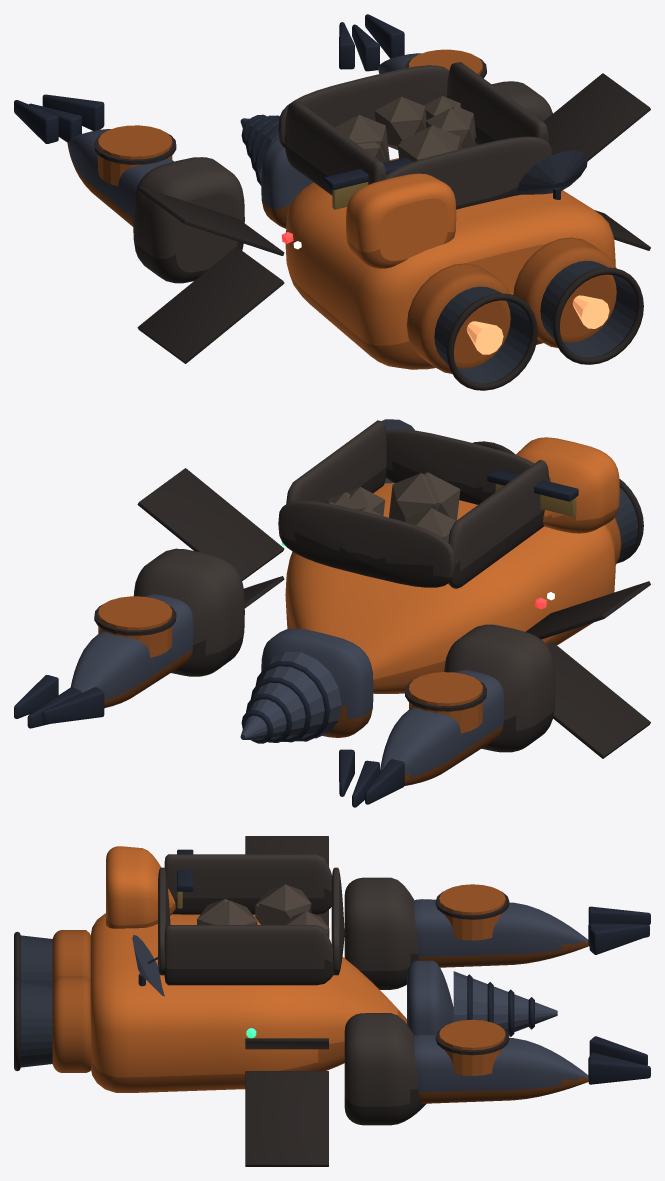
File: digger.glb
3 renders of one model, top to bottom at view 1: azimuth 30°, elevation 25°; view 2: azimuth 150°, elevation 25°; view 3: azimuth 270°, elevation 25°, orthographic. The views are drawn at different scales.
Visible parts, largest first — view 1: digger_mesh, radar_mesh; view 2: digger_mesh; view 3: digger_mesh, radar_mesh.
Boxes of the visible parts, <box> form: digger_mesh: <box>14,14,650,390</box>; radar_mesh: <box>517,150,587,199</box>; digger_mesh: <box>14,420,650,807</box>; digger_mesh: <box>14,836,650,1166</box>; radar_mesh: <box>132,935,164,996</box>.
Size of the model in its own units: 7.43 by 2.98 by 9.82.
